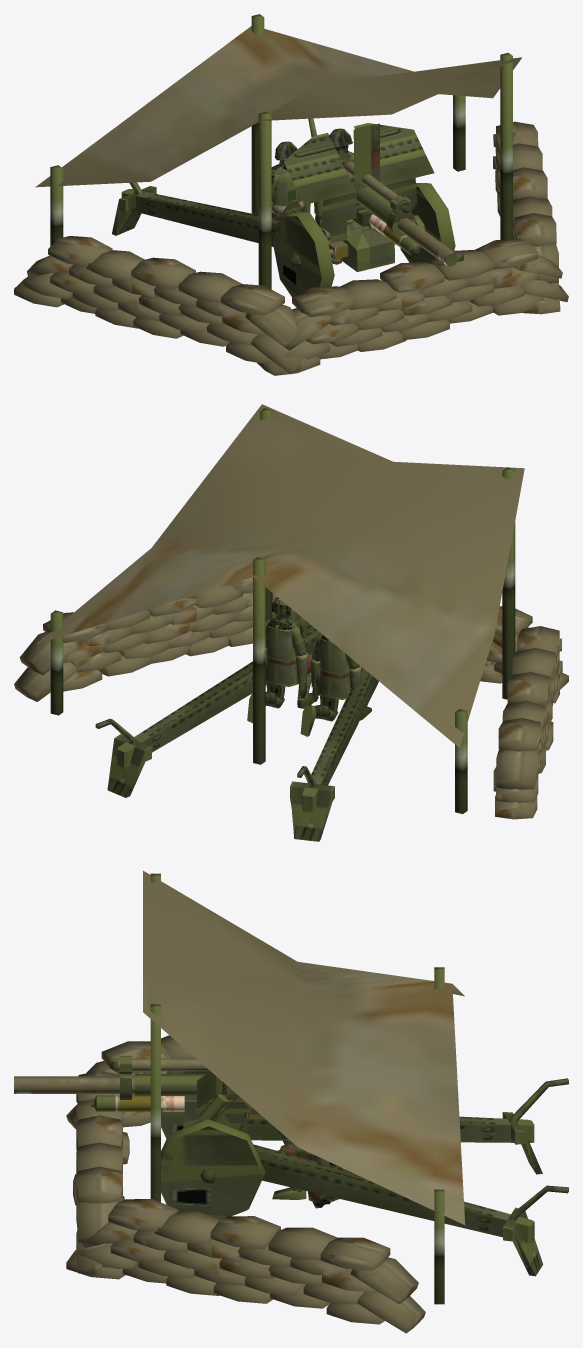
File: RUSM30_Stationary.dae
The picture shows the model from 3 angles, top to bottom: view 1: azimuth 30°, elevation 25°; view 2: azimuth 150°, elevation 25°; view 3: azimuth 270°, elevation 25°; orthographic projection. The views are drawn at different scales.
Parts seen in each view (by area): view 1: base, carriage, sleeve, barrel, torso1; view 2: base, carriage, torso2, torso1; view 3: base, carriage, sleeve, barrel.
Boxes of the visible parts, <box> form: base: <box>14,14,568,375</box>; carriage: <box>112,118,455,296</box>; sleeve: <box>337,123,420,255</box>; barrel: <box>397,218,458,266</box>; torso1: <box>271,161,305,218</box>; base: <box>14,404,568,819</box>; carriage: <box>95,612,378,841</box>; torso2: <box>265,616,298,686</box>; torso1: <box>315,635,350,699</box>; base: <box>66,870,465,1333</box>; carriage: <box>161,1071,568,1276</box>; sleeve: <box>91,1056,259,1114</box>; barrel: <box>14,1076,134,1093</box>.
Size of the model in its own units: 51.33 by 43.03 by 23.67.
